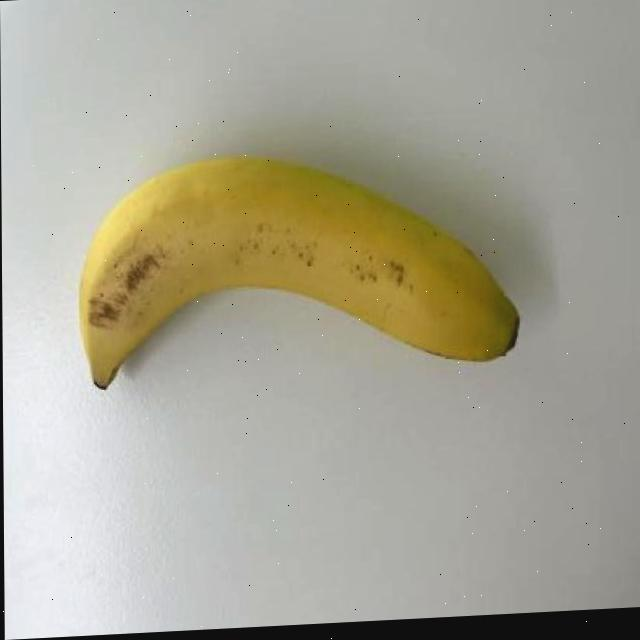banana: (69, 125, 536, 410)
